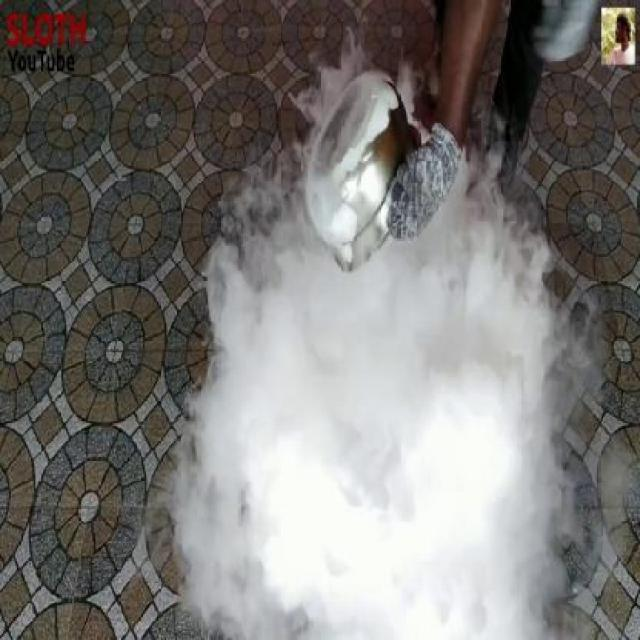smoke: (175, 171, 558, 607)
